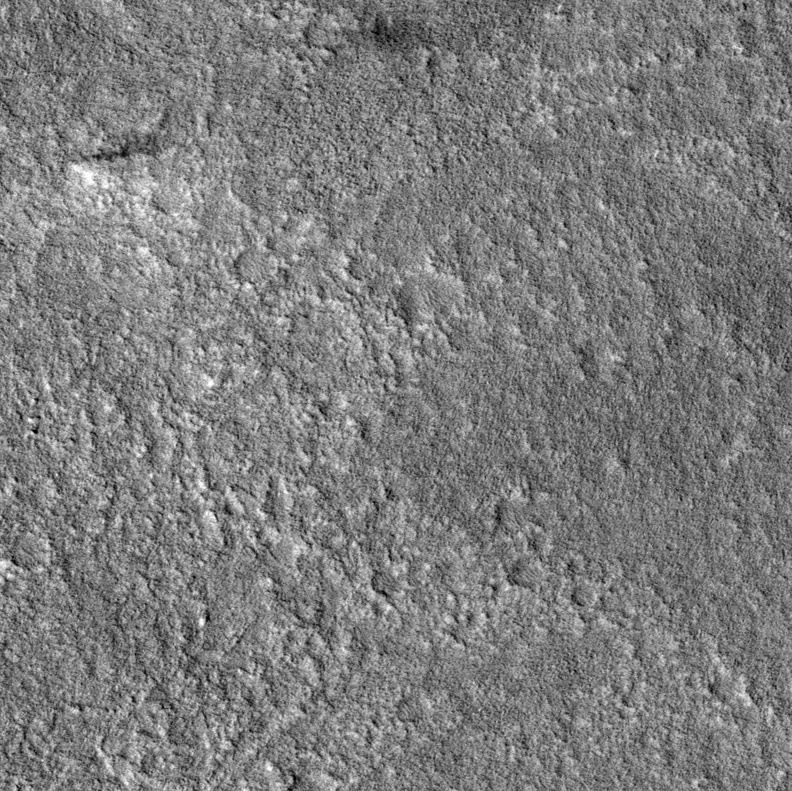dust_devil: (68, 132, 163, 189)
